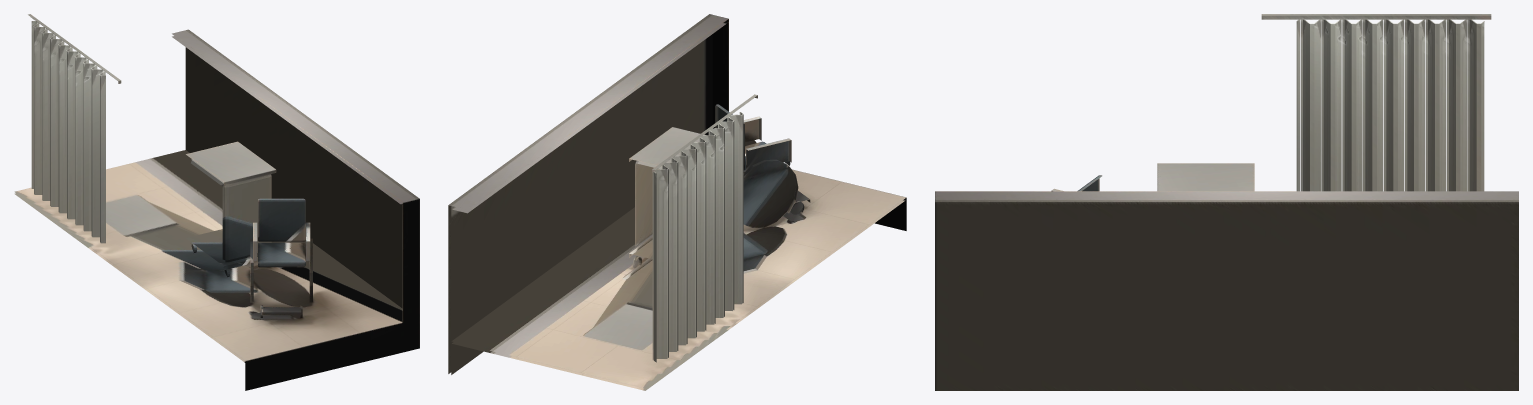
The model's file is side-right-alt.glb.
The picture shows the model from 3 angles, left to right: view 1: azimuth 30°, elevation 25°; view 2: azimuth 150°, elevation 25°; view 3: azimuth 270°, elevation 25°; orthographic projection. The views are drawn at different scales.
Parts seen in each view (by area): view 1: sideRightAlt; view 2: sideRightAlt; view 3: sideRightAlt.
Part boxes in pixels (x1=…): sideRightAlt: x1=14, y1=14, x2=419, y2=390; sideRightAlt: x1=448, y1=14, x2=906, y2=390; sideRightAlt: x1=935, y1=14, x2=1518, y2=390.
Bounding box in the file's own units: 1.83 × 2.15 × 4.2.
1 material, 1 textured.
